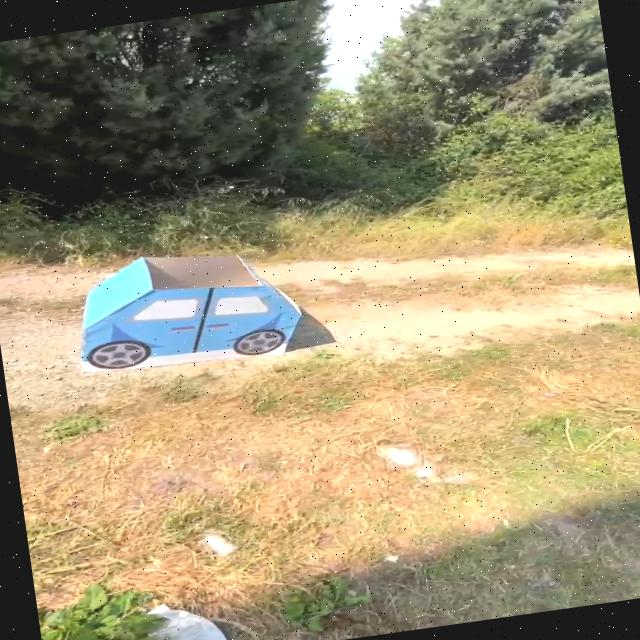blue_car: (39, 223, 325, 400)
